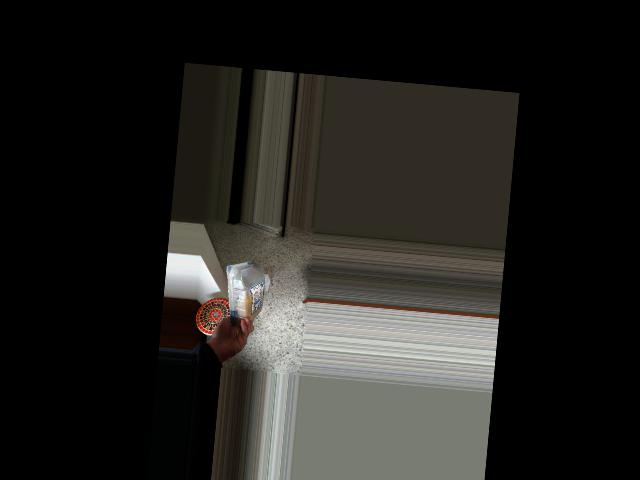cheese: (224, 258, 267, 326)
